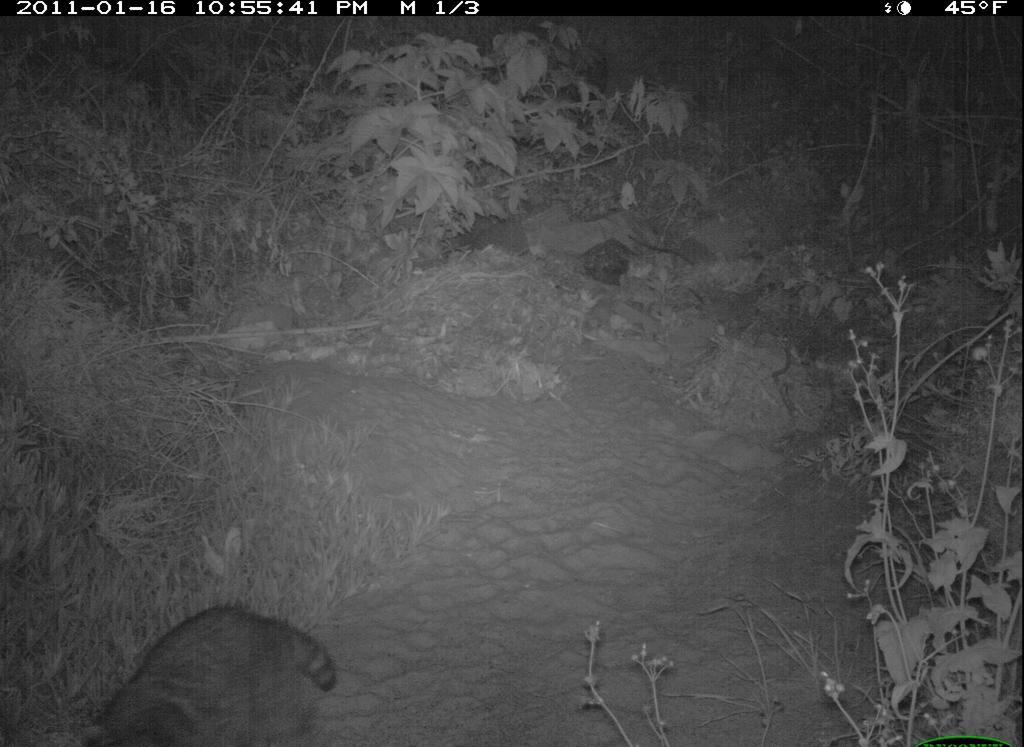raccoon: (67, 609, 345, 743)
